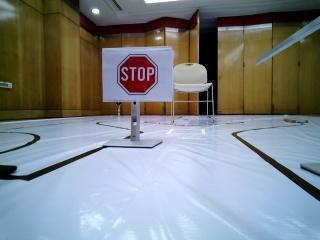stop: (110, 47, 171, 98)
